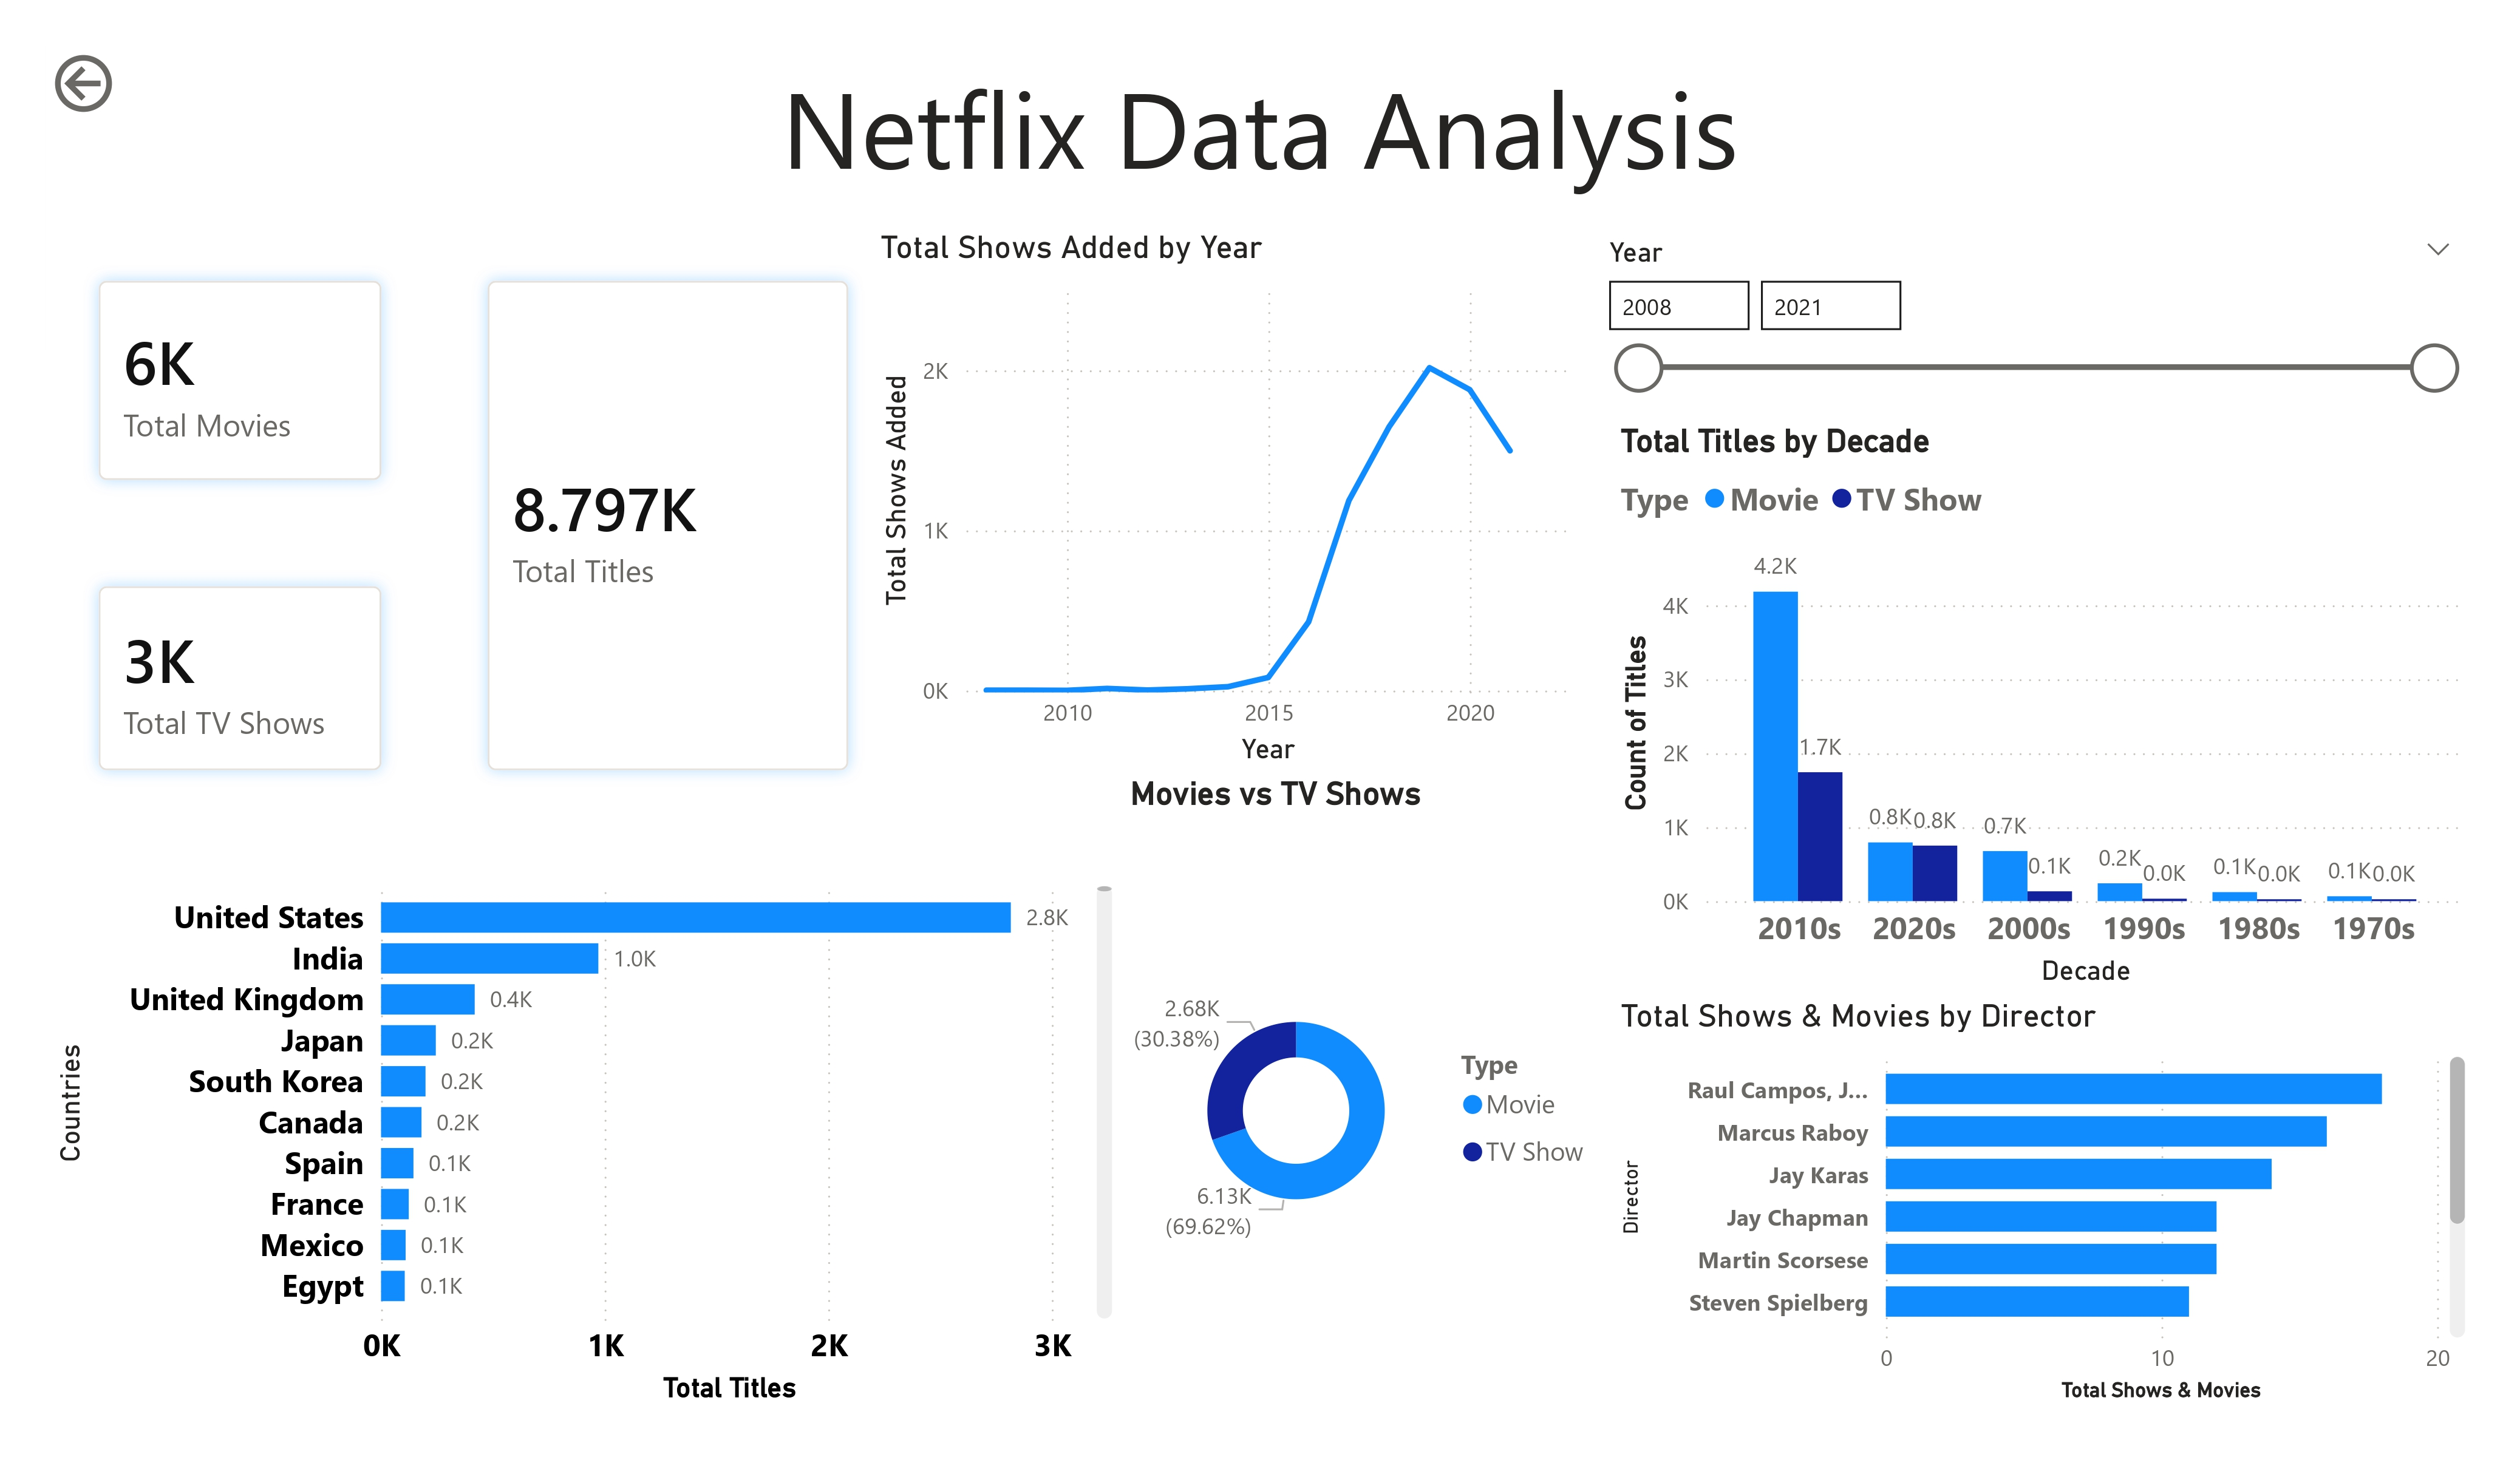

Layout of this report page (visuals, bound fields, positions):
{"tool":"powerbi","page":{"name":"Overview","canvas":[1280,720],"ordinal":0},"visuals":[{"type":"textbox","box":[0,0,1280,95.8],"z":0},{"type":"cardVisual","fields":{"Data":["Count(netflix_data.title)"]},"box":[205.3,95.8,246.3,314.7],"z":1000},{"type":"actionButton","box":[0,0,100,40],"z":2000},{"type":"cardVisual","fields":{"Data":["netflix_data.Total Movies"]},"box":[0,95.8,205.3,161.7],"z":3000},{"type":"cardVisual","fields":{"Data":["netflix_data.Total TV Shows"]},"box":[0,257.5,205.3,153],"z":4000},{"type":"donutChart","title":"Movies vs TV Shows  ","fields":{"Category":["netflix_data.type"],"Y":["Count(netflix_data.show_id)"]},"box":[566.7,384.2,258,336.2],"z":5000},{"type":"lineChart","fields":{"Category":["netflix_data.year_added"],"Y":["Count(netflix_data.show_id)"]},"box":[435.4,95.8,375.7,288.6],"z":6000},{"type":"slicer","fields":{"Values":["netflix_data.year_added"]},"box":[811.1,95.8,469,163],"z":7000},{"type":"barChart","fields":{"Category":["netflix_data.country"],"Y":["CountNonNull(netflix_data.title)"]},"box":[0,410.5,567.2,309.7],"z":8000},{"type":"clusteredColumnChart","title":"Total Titles by Decade ","fields":{"Category":["netflix_data.decade"],"Y":["CountNonNull(netflix_data.title)"],"Series":["netflix_data.type"]},"box":[824.7,197.6,455.6,303.3],"z":9000},{"type":"clusteredBarChart","fields":{"Category":["netflix_data.director"],"Y":["Count(netflix_data.show_id)"]},"box":[824.7,501.3,455.3,218.9],"z":10000}]}

Visuals, with their boxes on the page's 1280x720 design canvas (x1, y1, x2, y2). These are canvas units, not pixel positions in the 2520x1457 screenshot, which may show the page scaled, cropped or inside an application window:
textbox: 0 0 1280 96
cardVisual - Count(netflix_data.title): 205 96 452 410
actionButton: 0 0 100 40
cardVisual - netflix_data.Total Movies: 0 96 205 258
cardVisual - netflix_data.Total TV Shows: 0 258 205 410
"Movies vs TV Shows  " donutChart: 567 384 825 720
lineChart - netflix_data.year_added x Count(netflix_data.show_id): 435 96 811 384
slicer - netflix_data.year_added: 811 96 1280 259
barChart - netflix_data.country x CountNonNull(netflix_data.title): 0 410 567 720
"Total Titles by Decade " clusteredColumnChart: 825 198 1280 501
clusteredBarChart - netflix_data.director x Count(netflix_data.show_id): 825 501 1280 720
